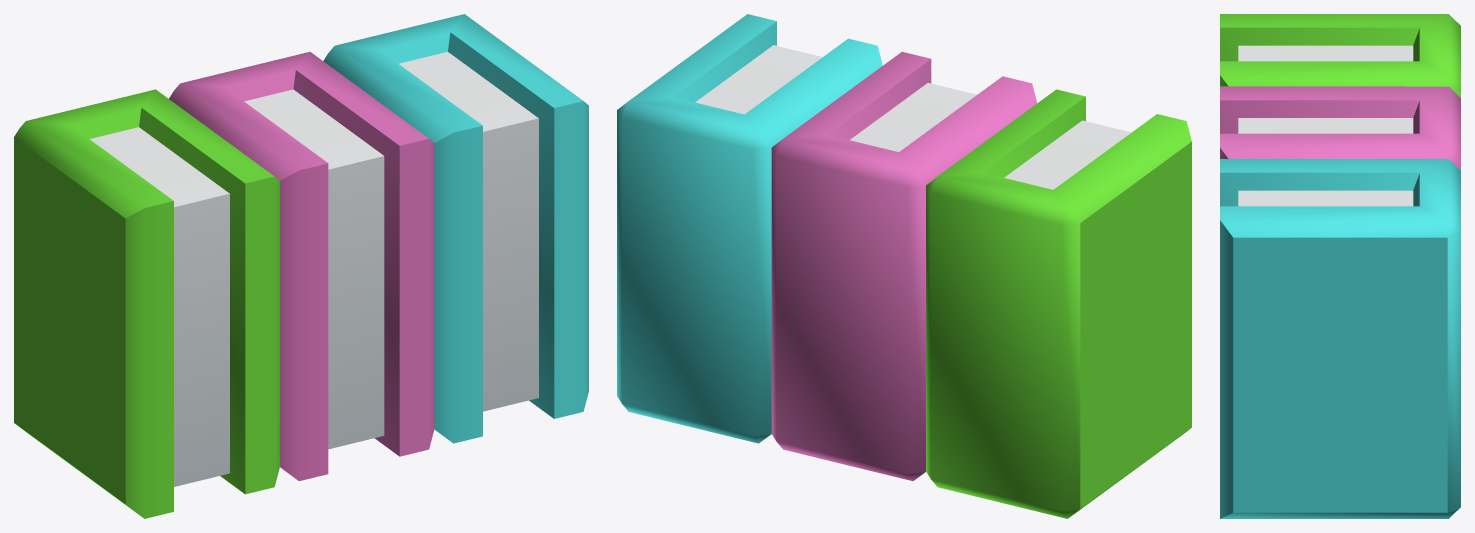
Rendered from beds.glb.
The picture shows the model from 3 angles, left to right: view 1: azimuth 30°, elevation 25°; view 2: azimuth 150°, elevation 25°; view 3: azimuth 270°, elevation 25°; orthographic projection. The views are drawn at different scales.
Parts seen in each view (by area): view 1: bookSet_colourB, bookSet, bookSet_colourC, bookSet_colourA; view 2: bookSet_colourB, bookSet_colourC, bookSet_colourA, bookSet; view 3: bookSet_colourA, bookSet_colourB, bookSet_colourC, bookSet.
Part boxes in pixels (bbox=[...]): bookSet_colourB: bbox=[14, 89, 279, 518]; bookSet: bbox=[90, 51, 538, 486]; bookSet_colourC: bbox=[169, 52, 434, 481]; bookSet_colourA: bbox=[323, 14, 588, 443]; bookSet_colourB: bbox=[926, 89, 1191, 518]; bookSet_colourC: bbox=[771, 51, 1037, 480]; bookSet_colourA: bbox=[617, 14, 882, 443]; bookSet: bbox=[695, 45, 1131, 189]; bookSet_colourA: bbox=[1220, 159, 1460, 518]; bookSet_colourB: bbox=[1220, 14, 1460, 97]; bookSet_colourC: bbox=[1220, 86, 1460, 170]; bookSet: bbox=[1238, 45, 1413, 206].
Bounding box in the file's own units: 0.78 × 0.5 × 0.365.
Materials: 4 (1 with a texture image).
